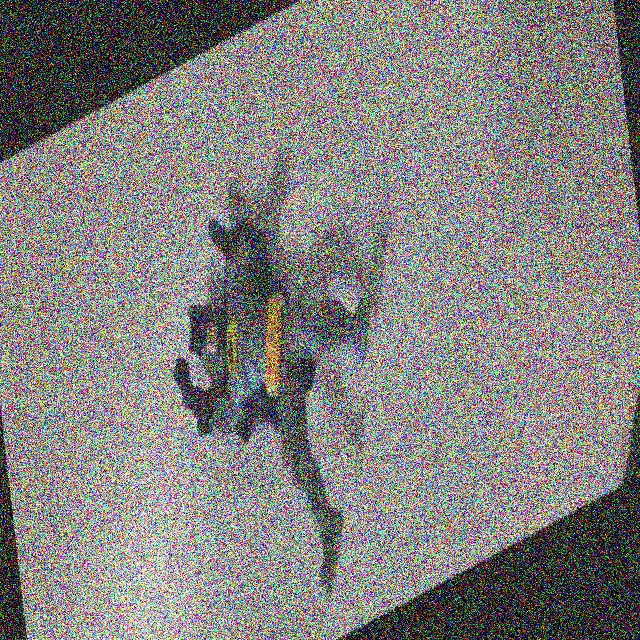Batman: (158, 141, 405, 640)
